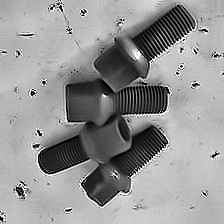holes: (172, 24, 224, 93), (46, 1, 91, 36), (1, 30, 38, 66), (27, 76, 52, 100), (11, 180, 31, 203), (31, 124, 44, 151), (207, 146, 224, 165), (195, 189, 213, 204), (61, 204, 76, 217), (1, 209, 10, 224), (116, 16, 125, 27)
